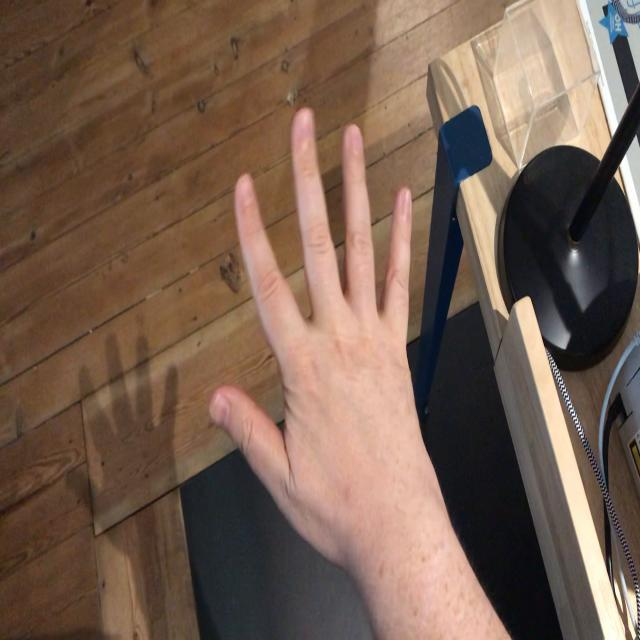no-gloves: (207, 103, 418, 552)
